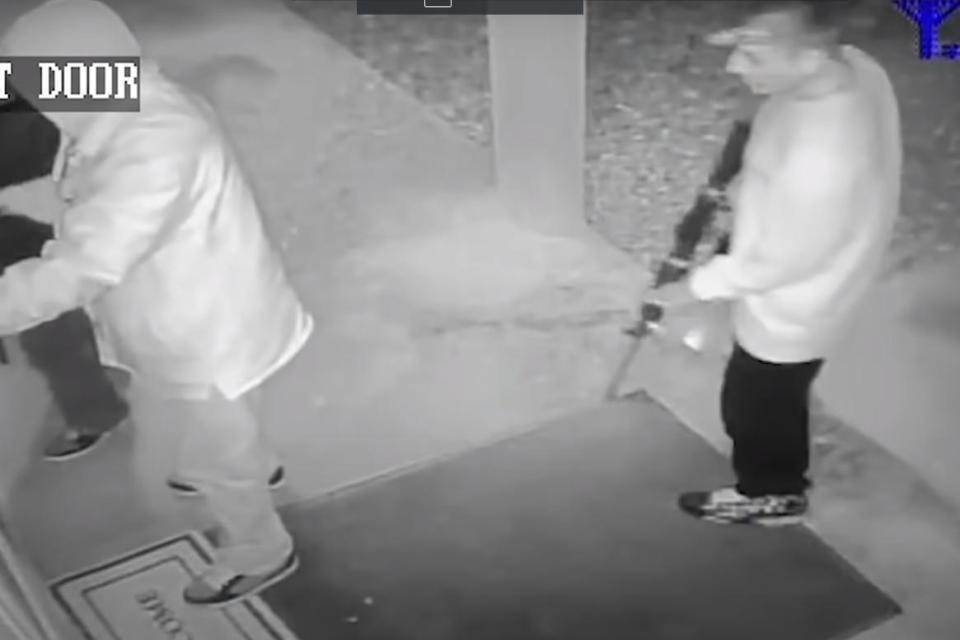non-violence: (0, 0, 315, 608), (635, 0, 908, 532)
weapon: (601, 115, 762, 406)
